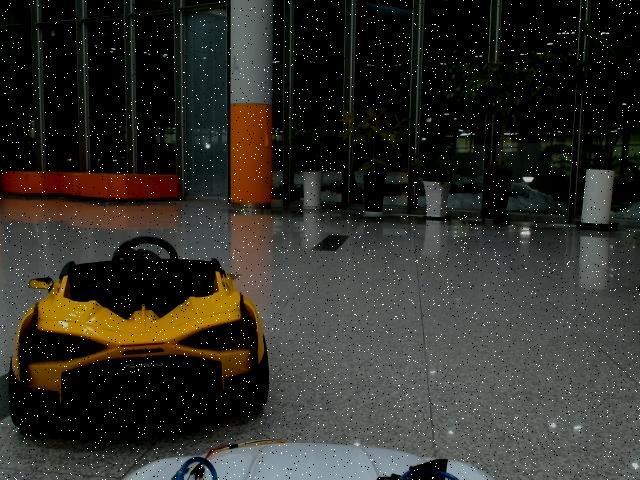car: (10, 237, 269, 433)
